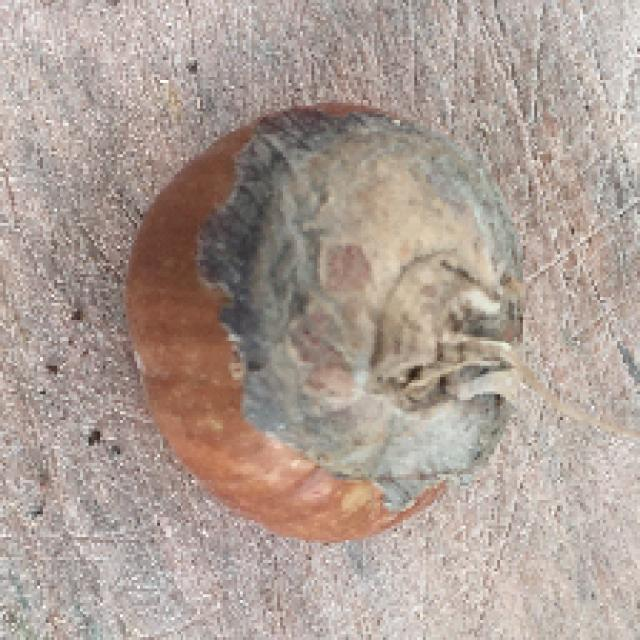damagedHazelnut: (127, 100, 526, 562)
